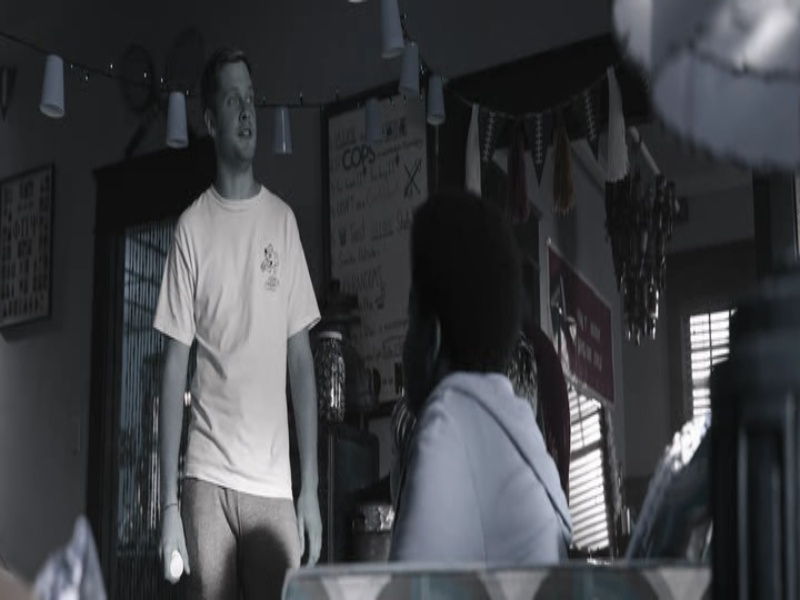TsisyArotava: (195, 59, 276, 183)
